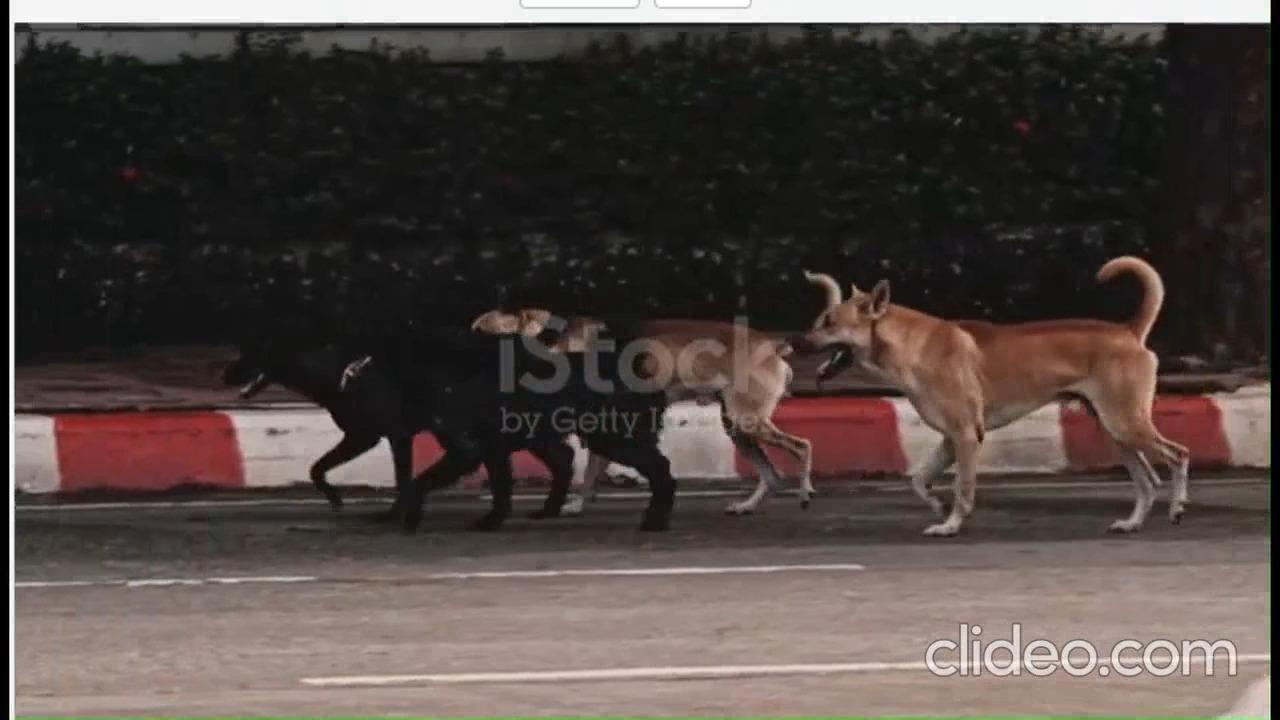dog: (793, 248, 1199, 527), (319, 302, 675, 534), (217, 314, 567, 526)
